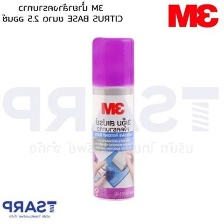aerosol_cans: (89, 33, 139, 203)
